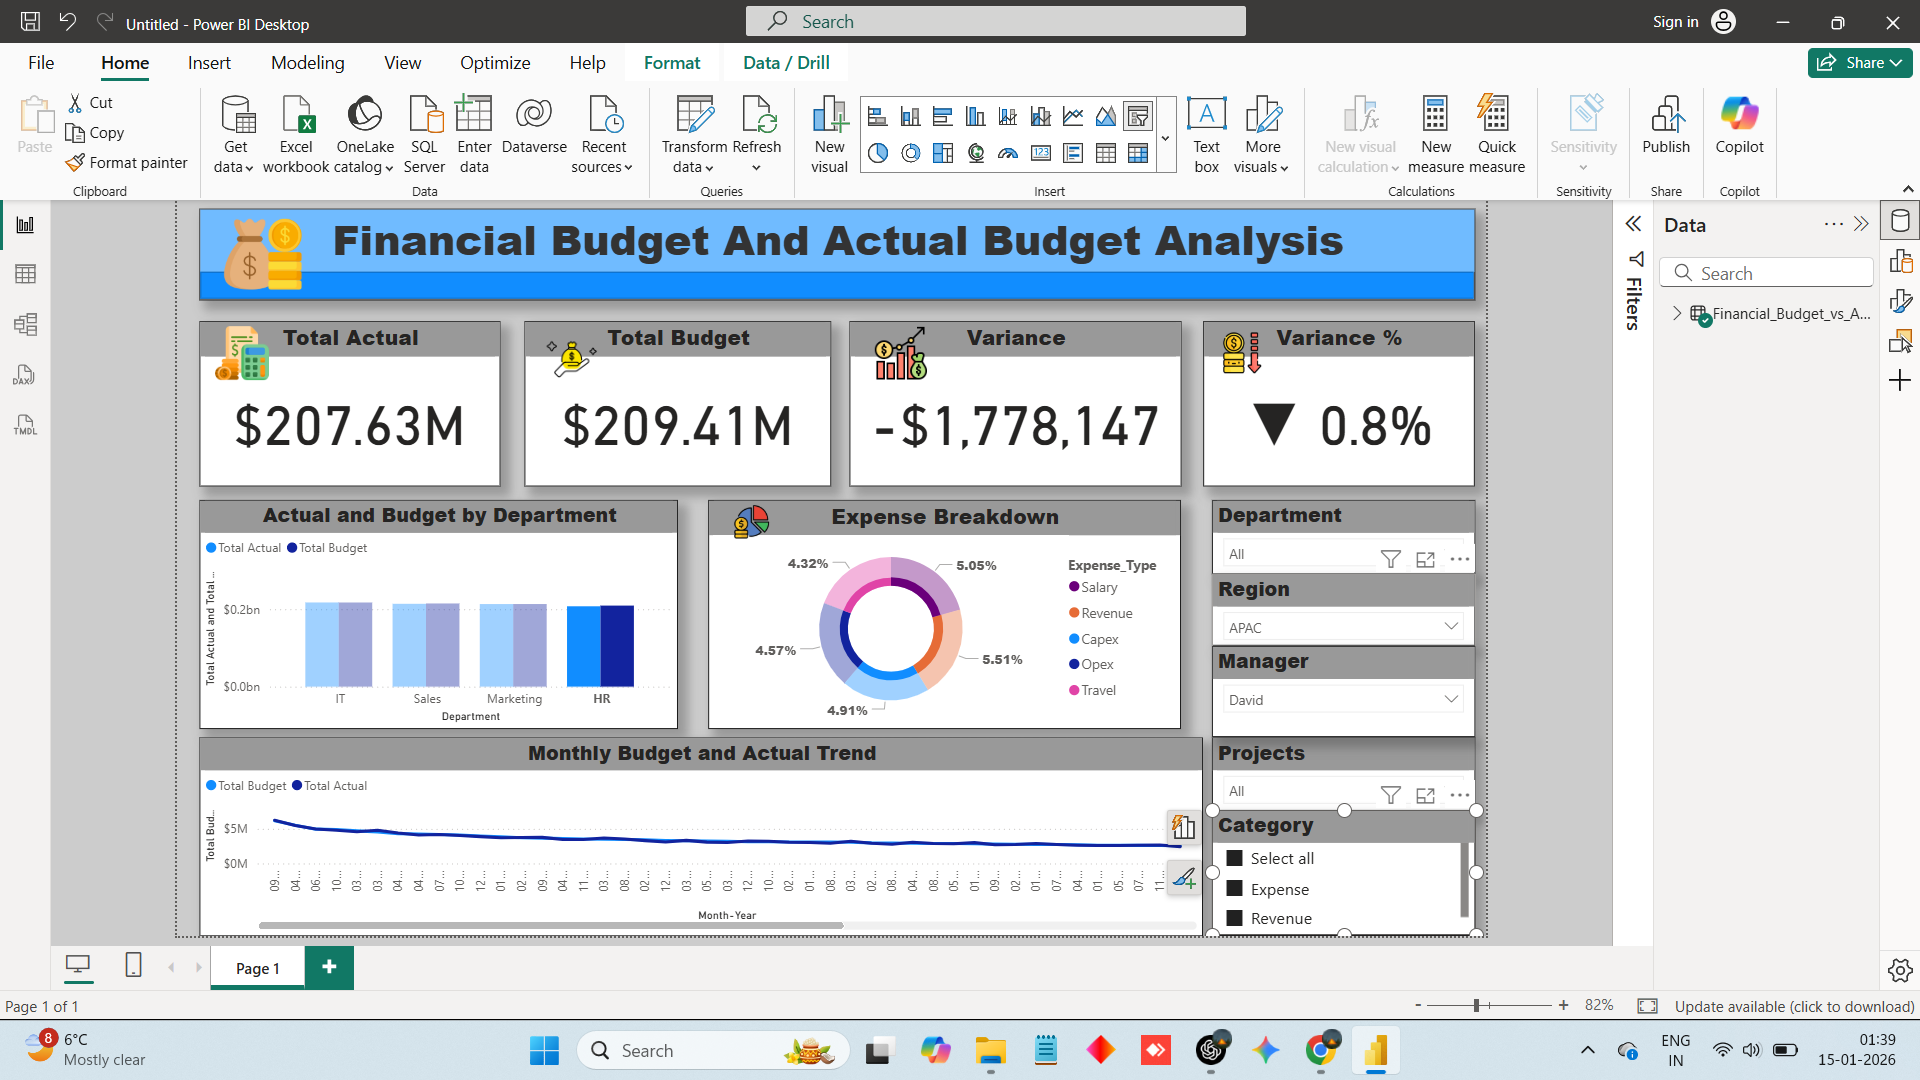

The page's visual inventory and layout, read from the dashboard file:
{"tool":"powerbi","page":{"name":"Page 1","canvas":[1280,720],"ordinal":0},"visuals":[{"type":"card","title":"Total Actual","fields":{"Values":["Financial_Budget_vs_Actual.Total Actual"]},"box":[21.6,118.3,294.3,161.6],"z":0},{"type":"card","title":"Total Budget","fields":{"Values":["Financial_Budget_vs_Actual.Total Budget"]},"box":[340.5,118.3,300.1,161.6],"z":1000},{"type":"card","title":"Variance %","fields":{"Values":["Financial_Budget_vs_Actual.% Variance"]},"box":[1004.2,118.3,265.5,161.6],"z":2000},{"type":"card","title":"Variance","fields":{"Values":["Financial_Budget_vs_Actual.Variance Measure"]},"box":[657.9,118.3,324.6,161.6],"z":3000},{"type":"shape","title":"Financial Budget And Actual Budget Analysis","box":[21.6,8.7,1248,89.5],"z":4000},{"type":"clusteredColumnChart","title":"Actual and Budget by Department","fields":{"Category":["Financial_Budget_vs_Actual.Department"],"Y":["Financial_Budget_vs_Actual.Total Actual","Financial_Budget_vs_Actual.Total Budget"]},"box":[22,293.5,468.3,223.8],"z":5000},{"type":"donutChart","title":"Expense Breakdown","fields":{"Category":["Financial_Budget_vs_Actual.Expense_Type"],"Y":["Financial_Budget_vs_Actual.Total Actual"]},"box":[519.7,293.5,462.2,223.8],"z":6000},{"type":"lineChart","title":"Monthly Budget and Actual Trend","fields":{"Category":["Financial_Budget_vs_Actual.Month-Year"],"Y":["Financial_Budget_vs_Actual.Total Budget","Financial_Budget_vs_Actual.Total Actual"]},"box":[22,525.8,981.9,194.4],"z":7000},{"type":"slicer","title":"Department","fields":{"Values":["Financial_Budget_vs_Actual.Department"]},"box":[1012.9,293.5,257.3,72.5],"z":8000},{"type":"slicer","title":"Region","fields":{"Values":["Financial_Budget_vs_Actual.Region"]},"box":[1012.9,366,257.3,70.7],"z":9000},{"type":"slicer","title":"Projects","fields":{"Values":["Financial_Budget_vs_Actual.Project"]},"box":[1012.9,525.5,257.3,74.3],"z":10000},{"type":"slicer","title":"Manager","fields":{"Values":["Financial_Budget_vs_Actual.Manager"]},"box":[1012.9,436.7,257.3,88.8],"z":11000},{"type":"slicer","title":"Category","fields":{"Values":["Financial_Budget_vs_Actual.Category"]},"box":[1012.9,596.2,257.3,123.2],"z":13000},{"type":"image","box":[22,8.6,124.7,89.3],"z":13001},{"type":"image","box":[539.3,280,47.7,69.7],"z":13002},{"type":"image","box":[22,118.6,83.2,62.4],"z":13003},{"type":"image","box":[1012.5,124.7,59.9,50.1],"z":13004},{"type":"image","box":[673.8,118.6,68.5,62.4],"z":13005},{"type":"image","box":[352.2,118.6,68.5,74.6],"z":13006}]}

Visuals, with their boxes on the page's 1280x720 design canvas (x1, y1, x2, y2). These are canvas units, not pixel positions in the 1920x1080 screenshot, which may show the page scaled, cropped or inside an application window:
"Total Actual" card: 22/118/316/280
"Total Budget" card: 340/118/641/280
"Variance %" card: 1004/118/1270/280
"Variance" card: 658/118/982/280
"Financial Budget And Actual Budget Analysis" shape: 22/9/1270/98
"Actual and Budget by Department" clusteredColumnChart: 22/294/490/517
"Expense Breakdown" donutChart: 520/294/982/517
"Monthly Budget and Actual Trend" lineChart: 22/526/1004/720
"Department" slicer: 1013/294/1270/366
"Region" slicer: 1013/366/1270/437
"Projects" slicer: 1013/526/1270/600
"Manager" slicer: 1013/437/1270/526
"Category" slicer: 1013/596/1270/719
image: 22/9/147/98
image: 539/280/587/350
image: 22/119/105/181
image: 1012/125/1072/175
image: 674/119/742/181
image: 352/119/421/193
